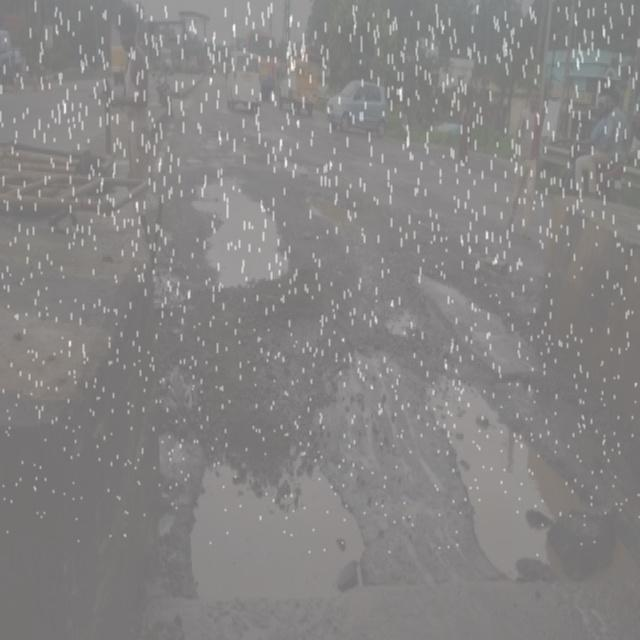Pothole: (421, 351, 595, 583), (166, 433, 367, 603), (387, 262, 533, 364), (177, 167, 286, 302), (301, 191, 368, 247), (279, 156, 323, 186)
